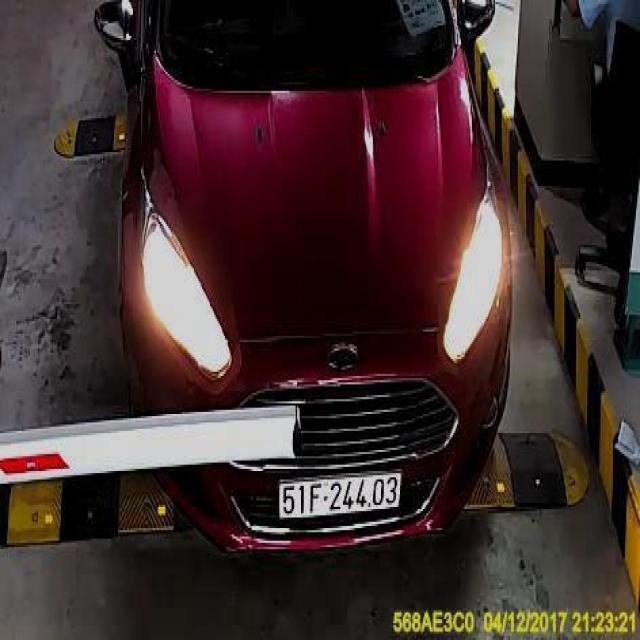License-Plates: (275, 474, 401, 521)
